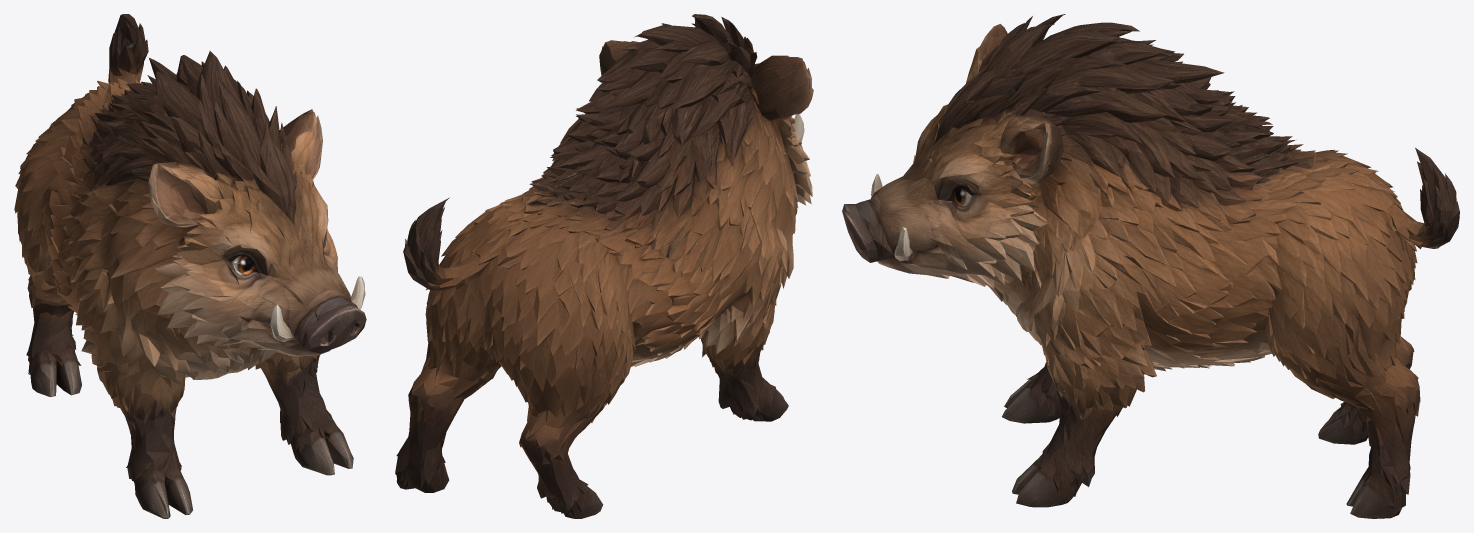
The model's file is boar.glb.
3 views of the same model, side by side, from view 1: azimuth 30°, elevation 25°; view 2: azimuth 150°, elevation 25°; view 3: azimuth 270°, elevation 25° (orthographic). The views are drawn at different scales.
Bounding box in the file's own units: 0.9445 × 1.44 × 1.9.
1 material, 1 textured.
